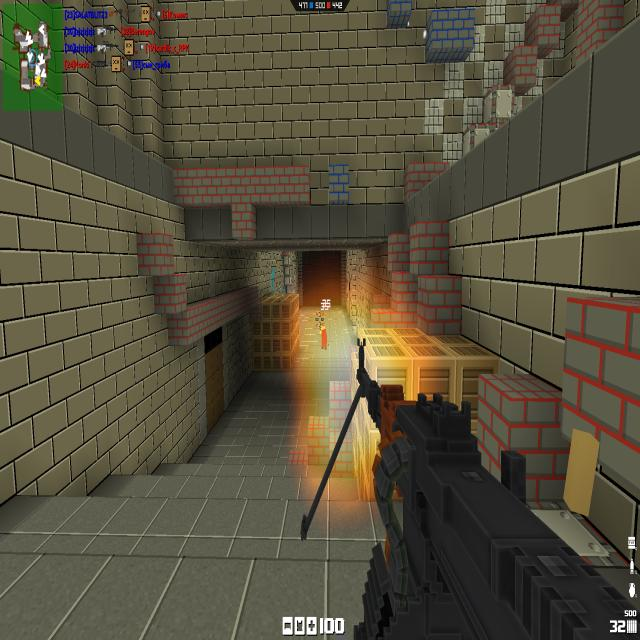player: (320, 324, 328, 349)
